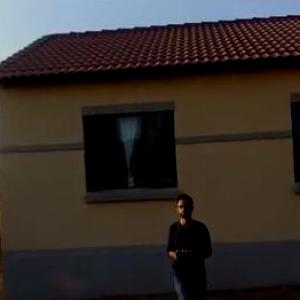follow: (156, 192, 216, 299)
